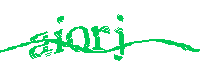a: (28, 31, 51, 58)
i: (54, 13, 65, 56)
j: (113, 14, 128, 64)
o: (66, 26, 91, 53)
r: (91, 25, 110, 52)
